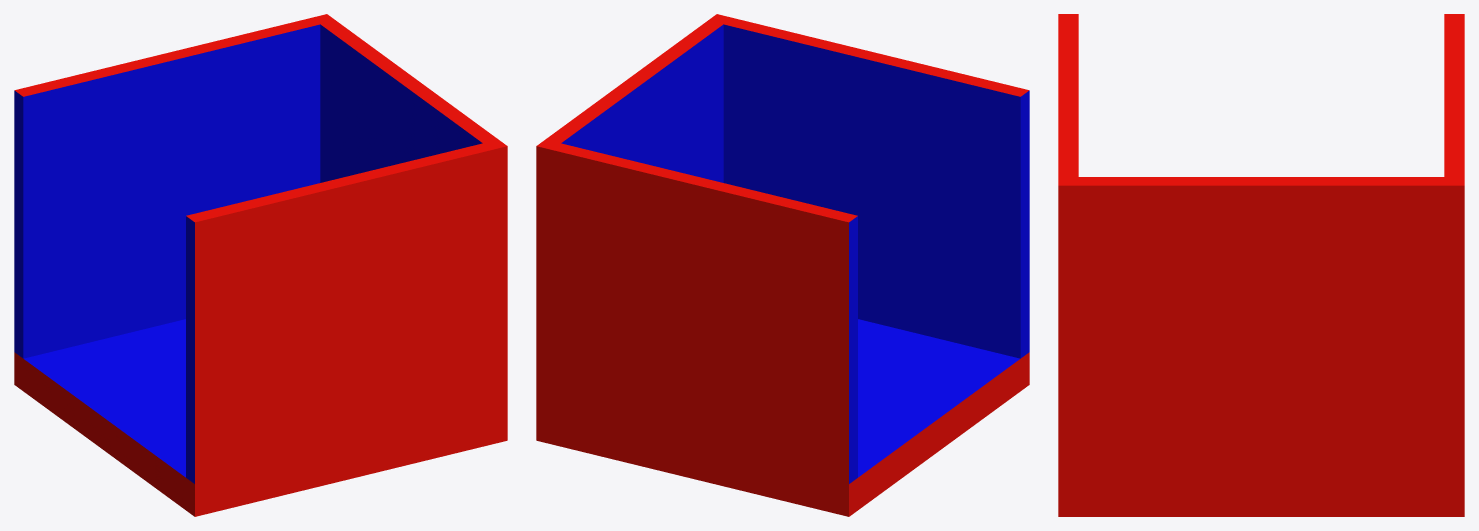
The model's file is dead_end.obj.
3 renders of one model, left to right at view 1: azimuth 30°, elevation 25°; view 2: azimuth 150°, elevation 25°; view 3: azimuth 270°, elevation 25°, orthographic. The views are drawn at different scales.
Parts seen in each view (by area): view 1: wall3, wall1, floor, wall2; view 2: wall1, wall3, floor, wall2; view 3: wall2, floor, wall1, wall3.
Boxes of the visible parts, left/top/right/bottom form: wall3: left=186, top=142, right=499, bottom=483; wall1: left=14, top=14, right=335, bottom=358; floor: left=14, top=319, right=507, bottom=516; wall2: left=313, top=14, right=507, bottom=411; wall1: left=536, top=142, right=857, bottom=483; wall3: left=709, top=14, right=1029, bottom=358; floor: left=536, top=319, right=1029, bottom=516; wall2: left=536, top=14, right=732, bottom=405; wall2: left=1058, top=177, right=1464, bottom=480; floor: left=1058, top=480, right=1464, bottom=516; wall1: left=1444, top=14, right=1464, bottom=480; wall3: left=1058, top=14, right=1078, bottom=480.
Size of the model in its own units: 10 by 9 by 10.
